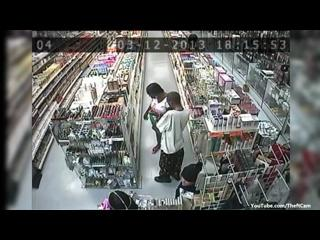Normal: (152, 91, 190, 183), (144, 82, 170, 154)
